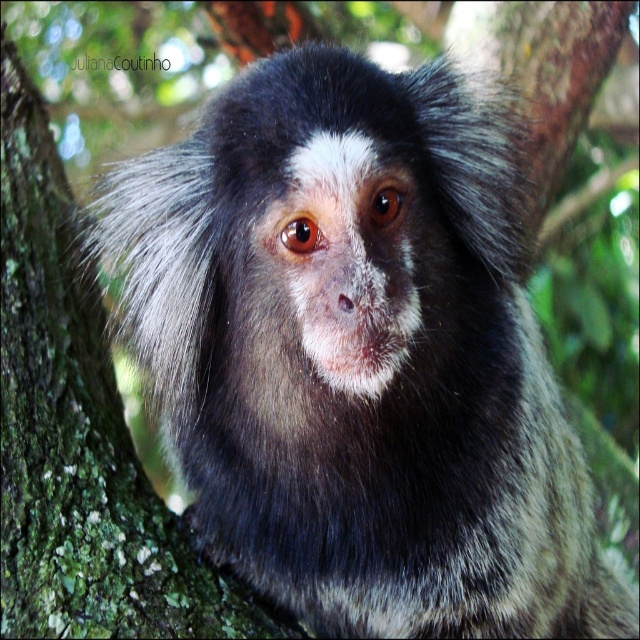Monkey: (57, 25, 638, 637)
